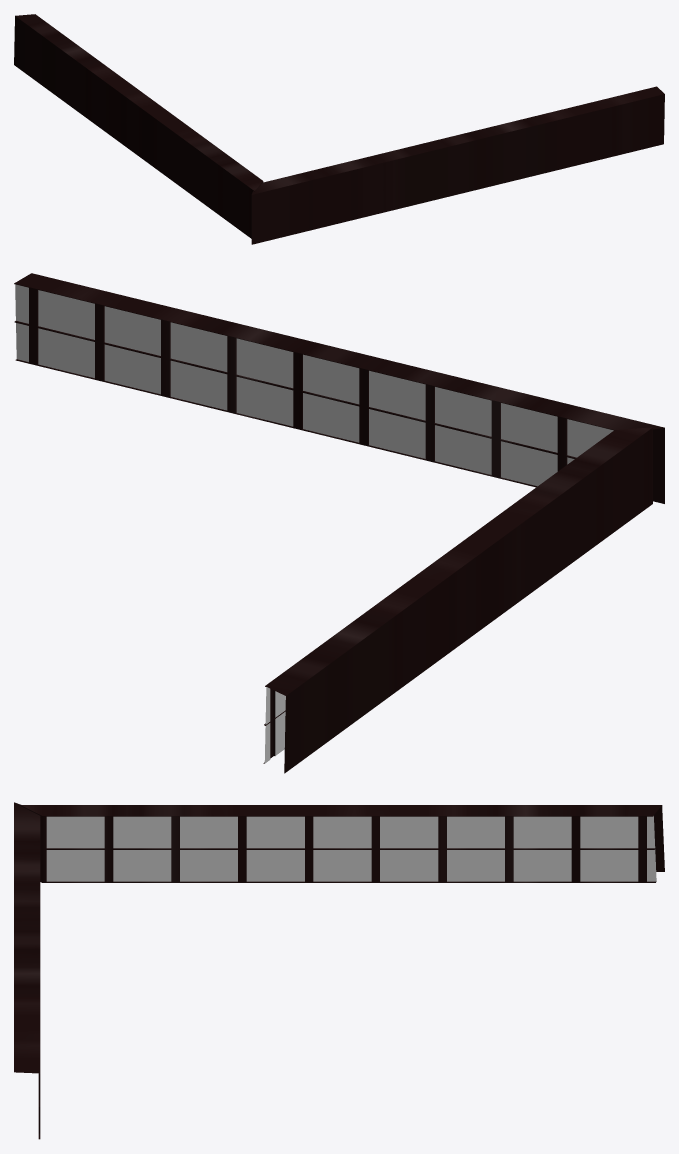
Rendered from colt.fbx.
The picture shows the model from 3 angles, top to bottom: view 1: azimuth 30°, elevation 25°; view 2: azimuth 150°, elevation 25°; view 3: azimuth 270°, elevation 25°; orthographic projection. The views are drawn at different scales.
Visible parts, largest first — view 1: lemn perete.001, lemn perete; view 2: lemn perete.001, lemn perete; view 3: lemn perete, lemn perete.001.
Boxes of the visible parts, x1,y1,x2,y2 form: lemn perete.001: (251, 86, 664, 244); lemn perete: (14, 14, 263, 238); lemn perete.001: (14, 273, 664, 503); lemn perete: (263, 427, 652, 773); lemn perete: (20, 805, 664, 882); lemn perete.001: (14, 802, 40, 1139).
Bounding box in the file's own units: 1114 × 130 × 1129.
